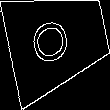O_E: (34, 14, 82, 68)
